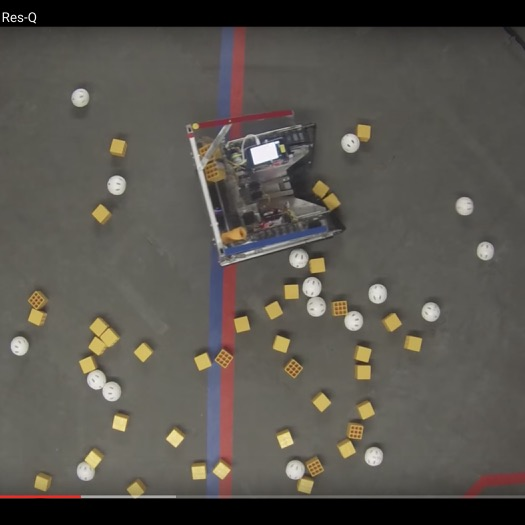robot: (183, 104, 350, 260)
